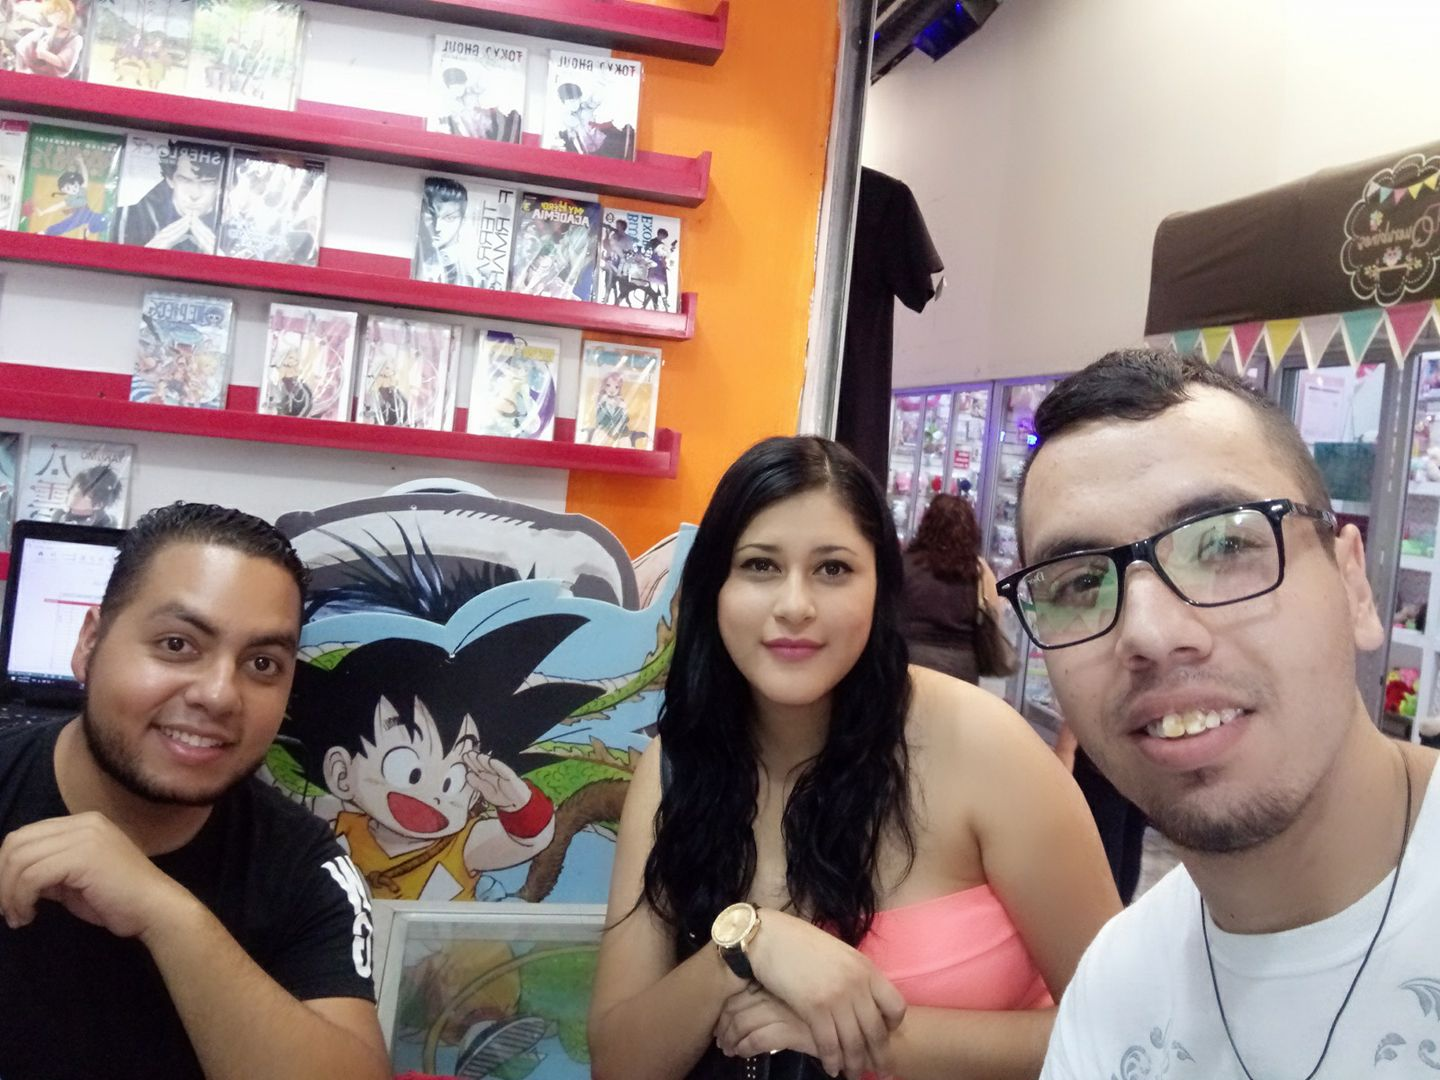Yoshi: (32, 452, 464, 1052)
